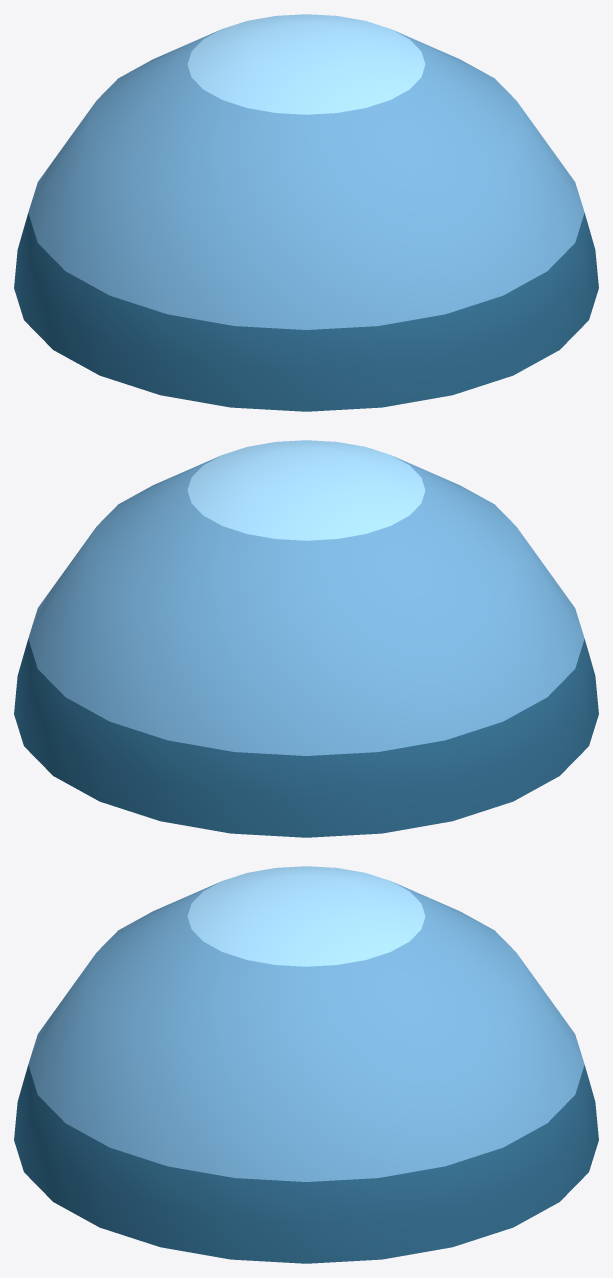
File: shot_gum_blue.glb
3 views of the same model, one above another, from view 1: azimuth 30°, elevation 25°; view 2: azimuth 150°, elevation 25°; view 3: azimuth 270°, elevation 25° (orthographic).
Visible parts, largest first — view 1: gum_ball; view 2: gum_ball; view 3: gum_ball.
Boxes of the visible parts, left/top/right/bottom form: gum_ball: left=14, top=14, right=598, bottom=411; gum_ball: left=14, top=440, right=598, bottom=837; gum_ball: left=14, top=866, right=598, bottom=1263.
Size of the model in its own units: 10.5 by 4.85 by 10.5.
